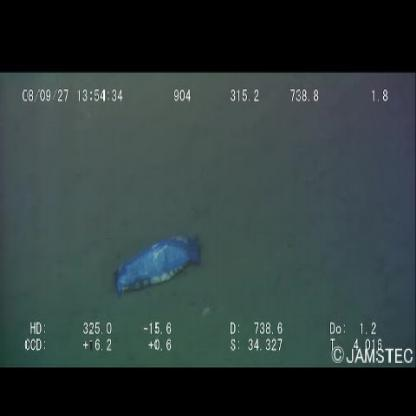Rác: (110, 228, 212, 302)
